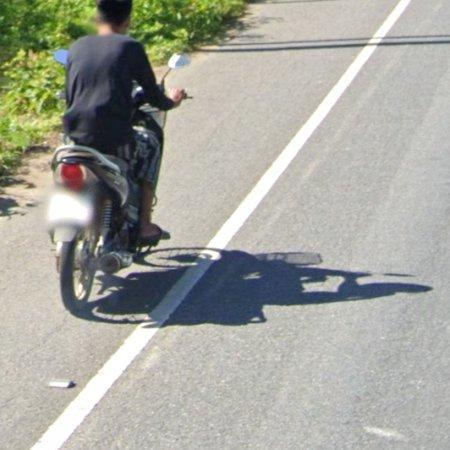motorcycles: (47, 144, 143, 311)
